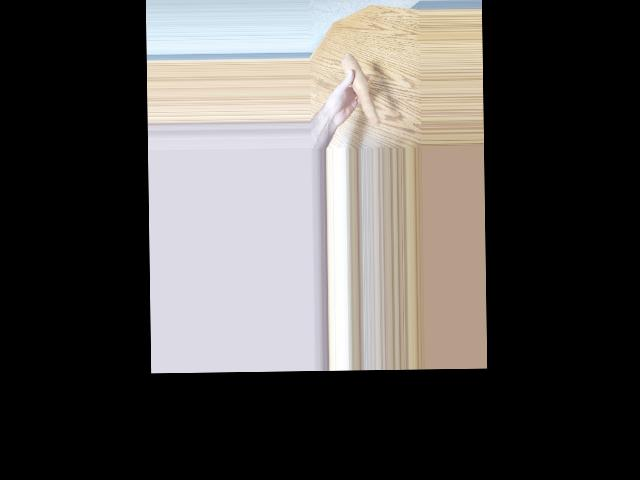sweet_potato: (349, 50, 374, 127)
